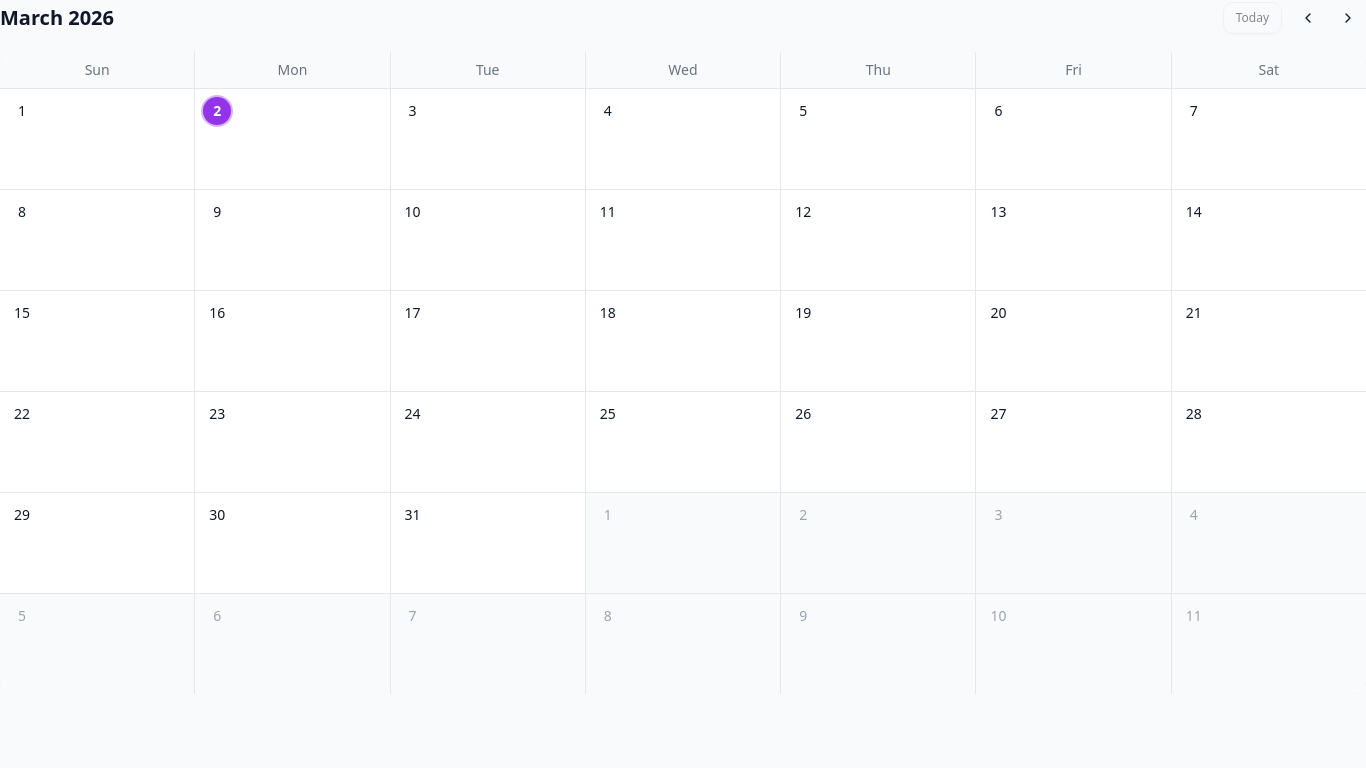
Test: CalendarView › displays empty state in modal when day has no tasks
Click the 1st button "1".
click(97, 139)  # box [0,89,194,189]
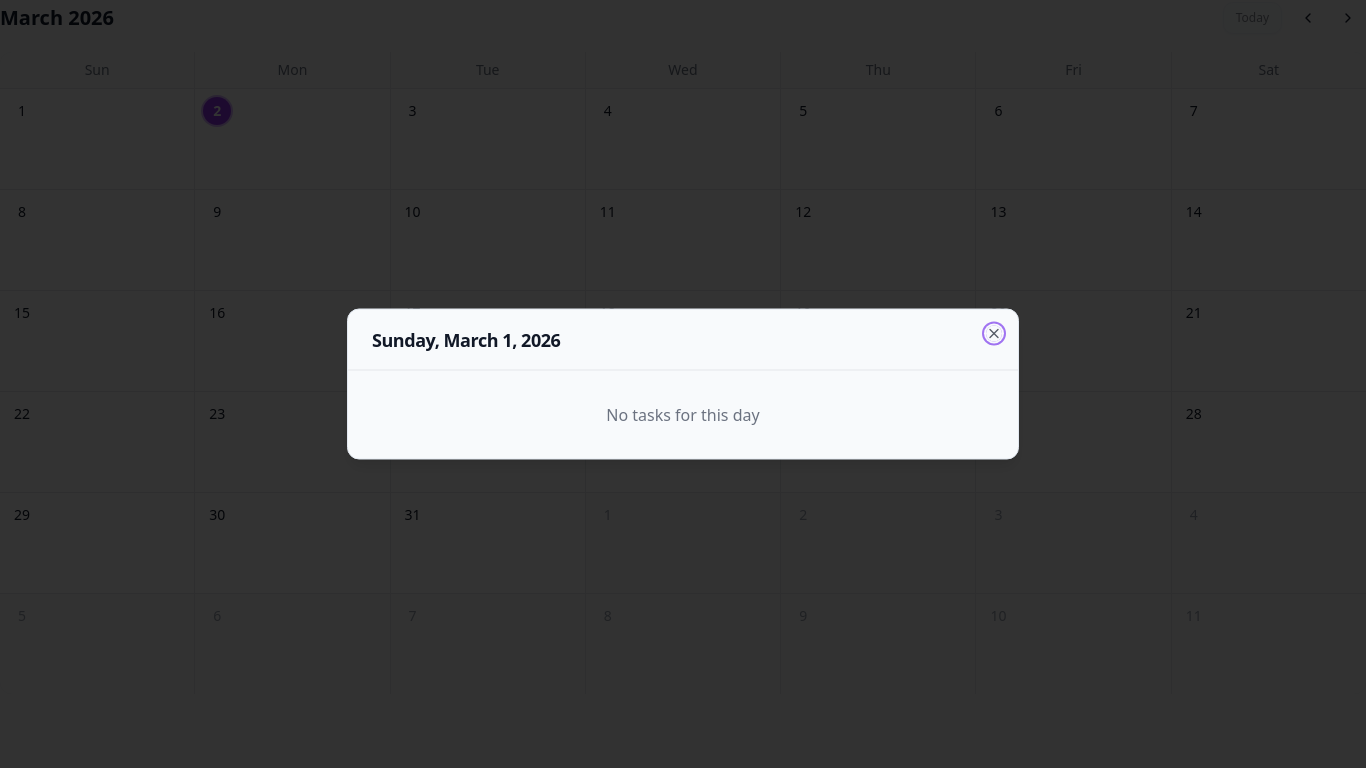
Result: the text "No tasks for this day" is shown at [606,404,760,426]
